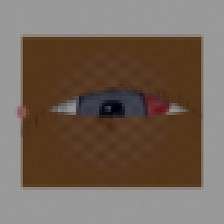hemorrhage_spot: (93, 69, 183, 141)
